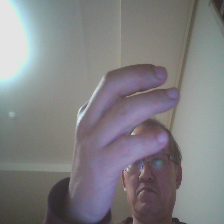hand: (71, 60, 168, 222)
